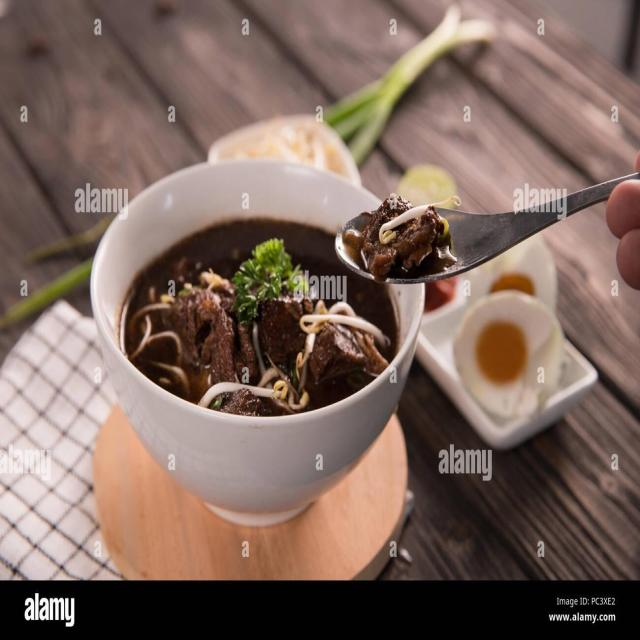Rawon: (102, 202, 397, 416)
